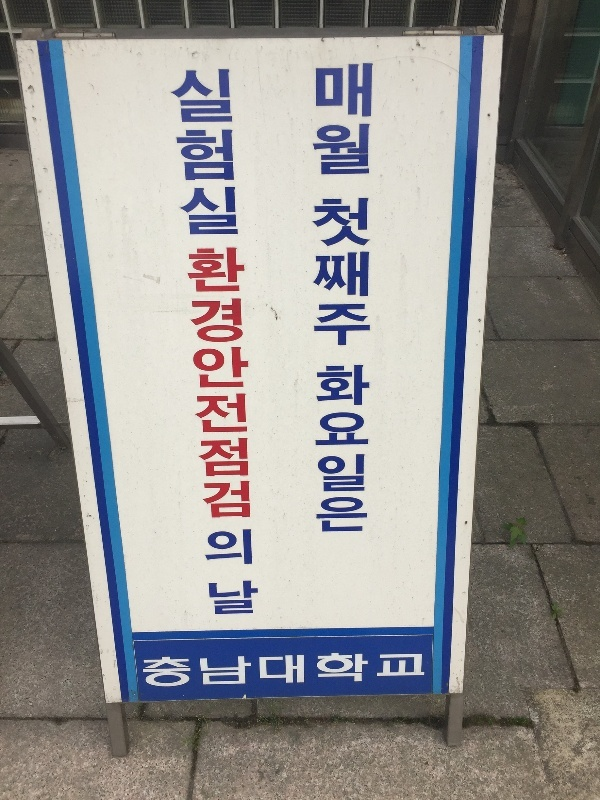text: (193, 241, 208, 572), (209, 241, 224, 572), (225, 241, 240, 572), (241, 241, 256, 572), (181, 241, 192, 572), (225, 58, 241, 247), (177, 58, 192, 247), (193, 58, 208, 247), (209, 58, 224, 247), (321, 356, 336, 545), (337, 356, 352, 545), (353, 356, 368, 545), (321, 194, 336, 364), (337, 194, 352, 364), (353, 194, 368, 364), (307, 194, 320, 364), (310, 356, 320, 545), (321, 63, 336, 182), (337, 63, 352, 182), (353, 63, 368, 182), (369, 356, 377, 545), (369, 194, 377, 364), (169, 58, 176, 247), (257, 241, 260, 572), (209, 573, 224, 625), (225, 573, 240, 625), (241, 573, 256, 625), (314, 63, 320, 182), (145, 651, 160, 692), (161, 651, 176, 692), (177, 651, 192, 692), (193, 651, 208, 692), (209, 651, 224, 692), (225, 651, 240, 692), (241, 651, 256, 692), (257, 651, 272, 692), (273, 651, 288, 692), (289, 651, 304, 692), (305, 651, 320, 692), (321, 651, 336, 692), (337, 651, 352, 692), (353, 651, 368, 692), (369, 651, 384, 692), (385, 651, 400, 692), (401, 651, 416, 692), (369, 63, 374, 182), (417, 651, 427, 692), (201, 573, 208, 625), (257, 573, 263, 625), (138, 651, 144, 692)
